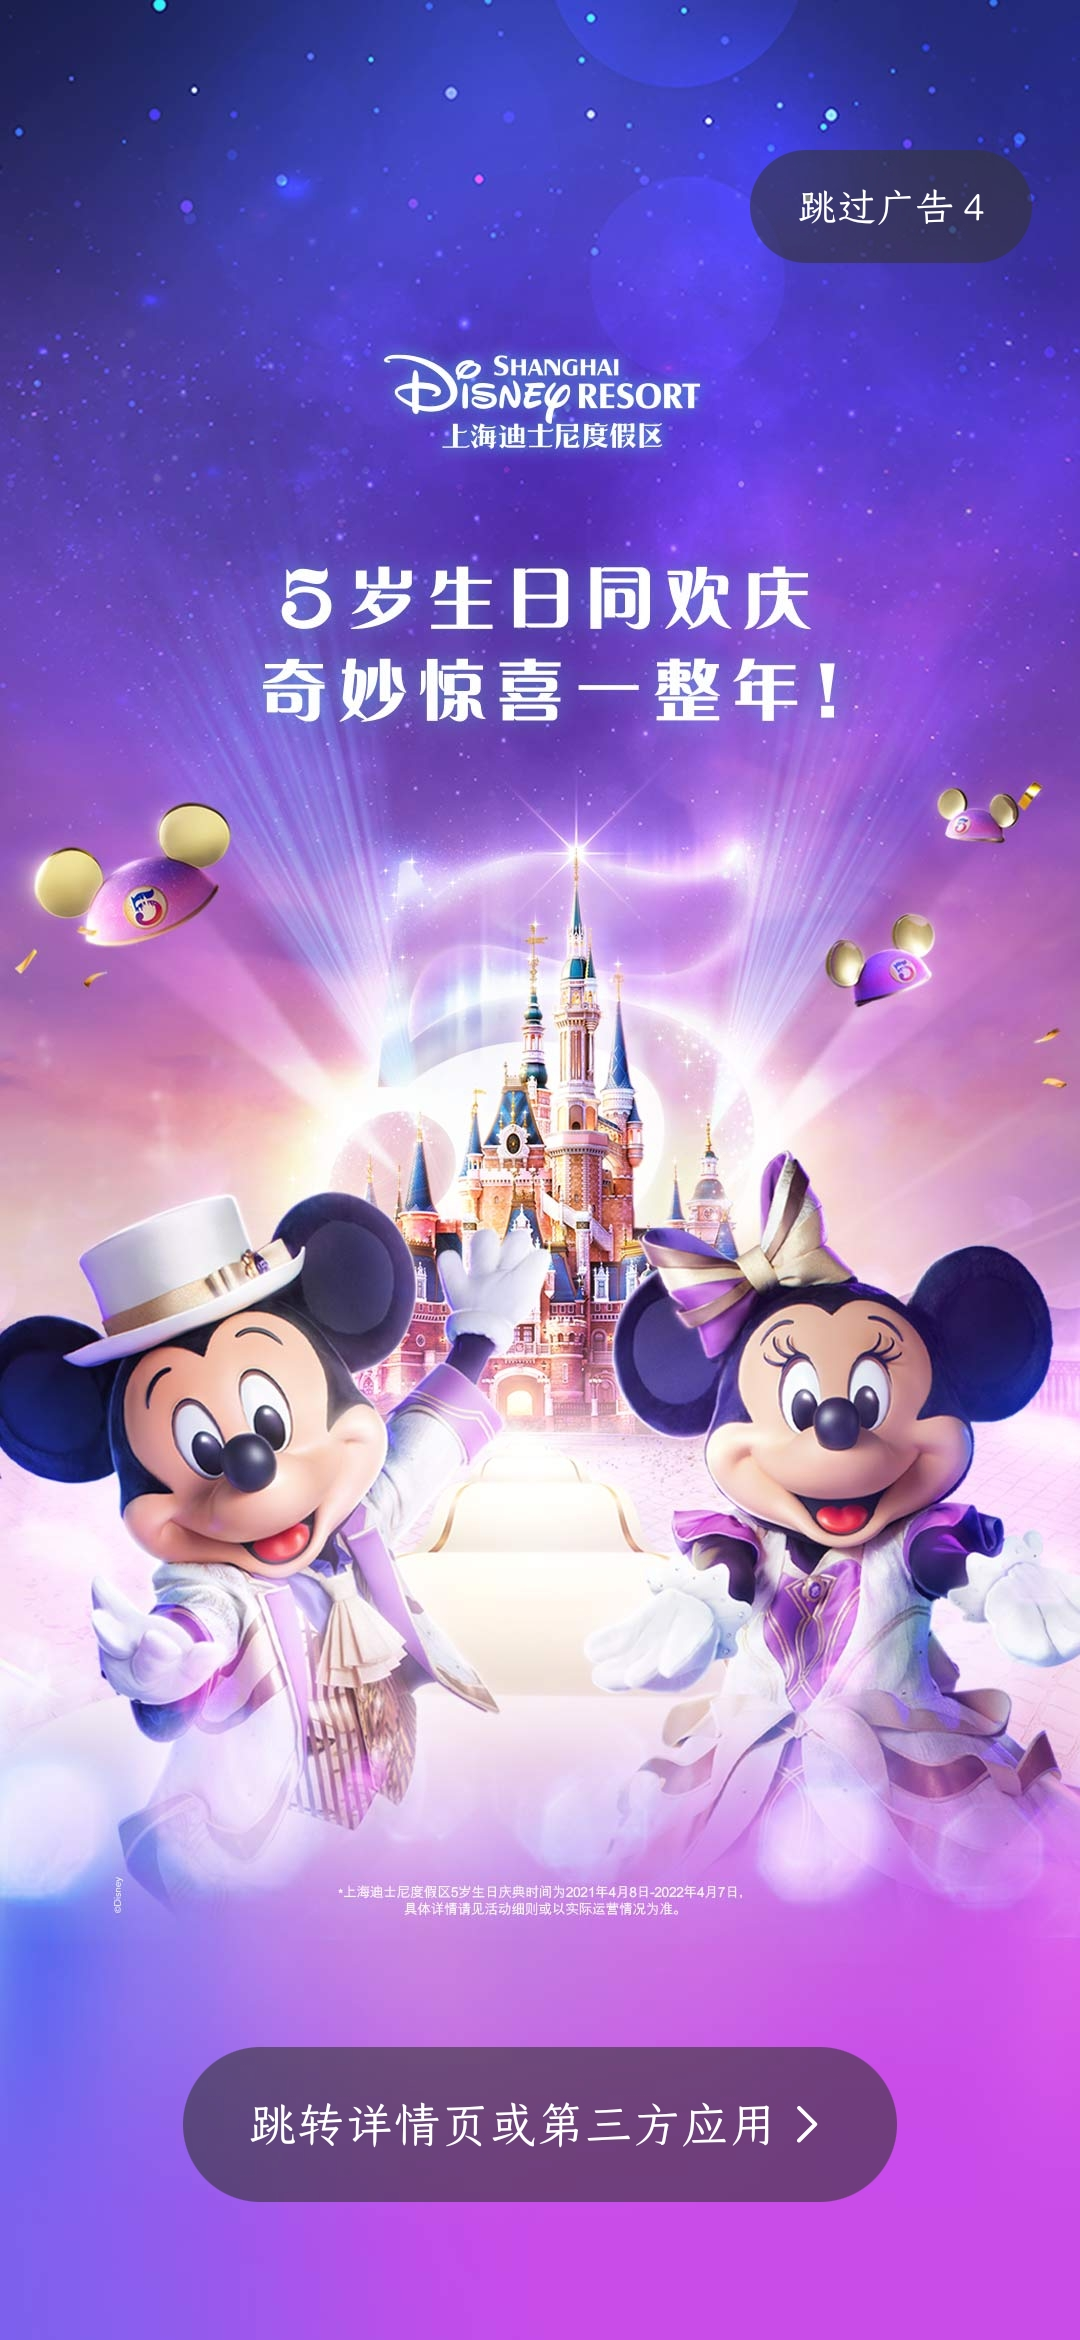skip: (773, 167, 1008, 257)
